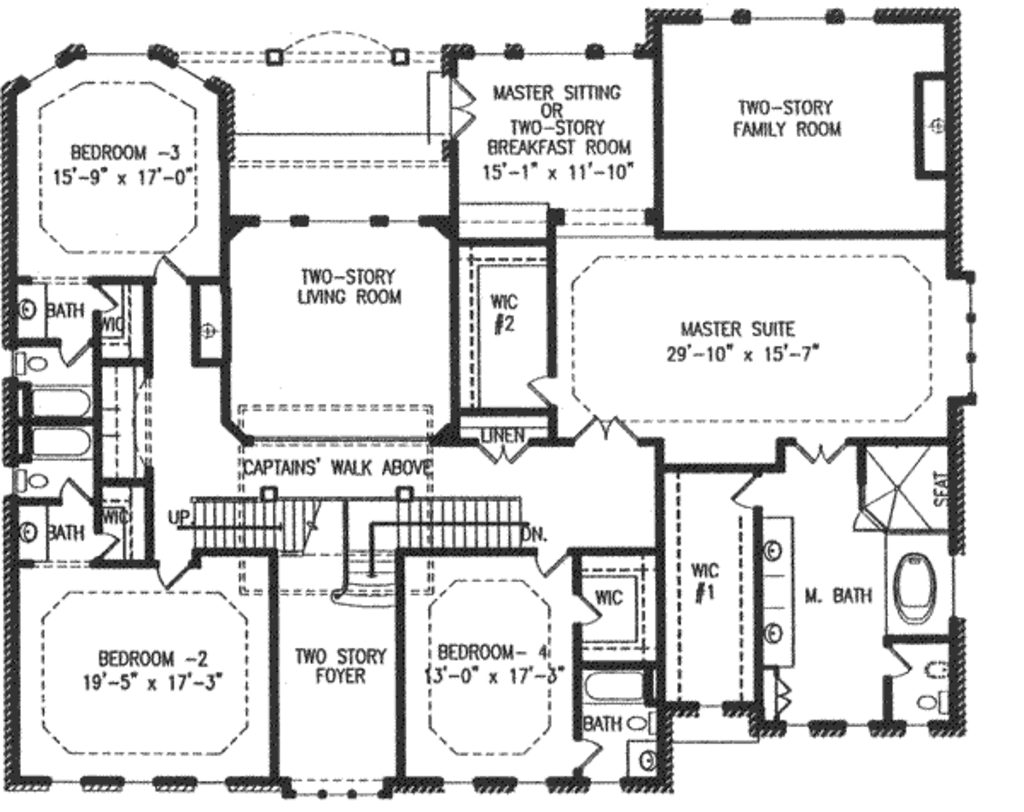door: (449, 71, 480, 144), (574, 413, 638, 447), (725, 465, 763, 513), (472, 438, 535, 465), (149, 246, 189, 288), (570, 738, 607, 781), (796, 438, 845, 466), (522, 369, 556, 409), (885, 634, 911, 684), (569, 595, 605, 630), (153, 560, 192, 592), (532, 544, 569, 577), (54, 475, 91, 505), (89, 530, 115, 567), (56, 340, 89, 367), (90, 285, 117, 316)
large_sink: (9, 342, 51, 385), (912, 686, 953, 728), (619, 705, 663, 740), (10, 462, 49, 497)
small_sink: (757, 515, 794, 668), (14, 281, 55, 342), (14, 501, 48, 568)
stairs: (168, 494, 531, 605)
tub: (880, 531, 955, 638), (30, 419, 97, 466), (571, 669, 646, 704), (25, 382, 95, 419)
